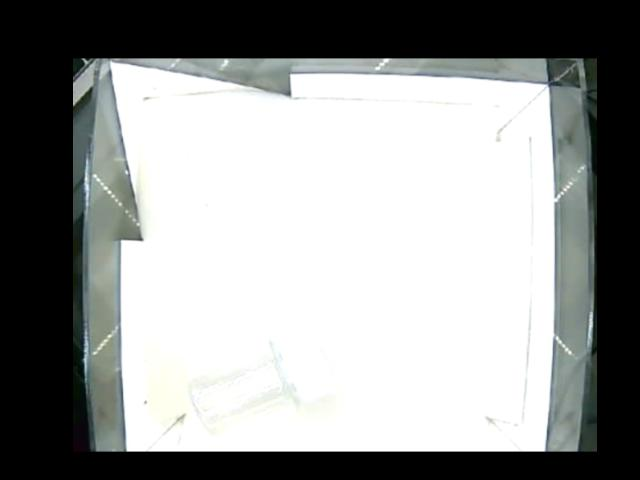Bottle: (190, 327, 336, 432)
